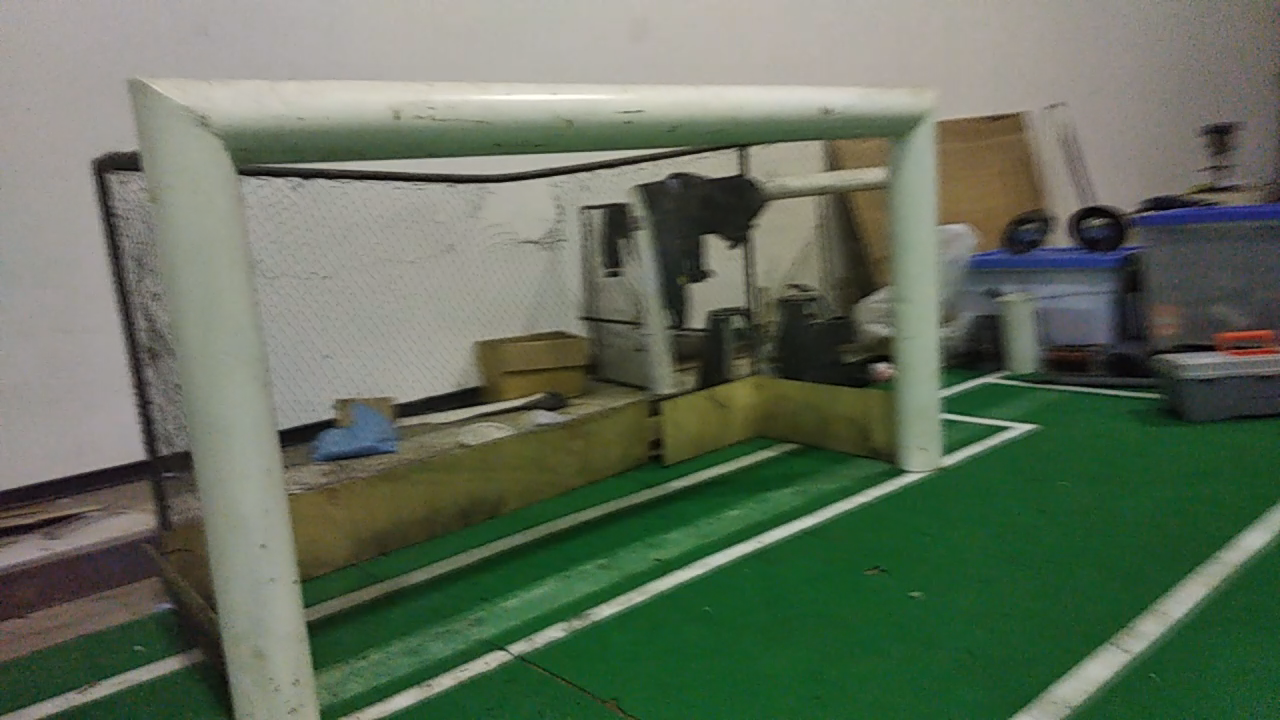gawang: (116, 63, 960, 719)
